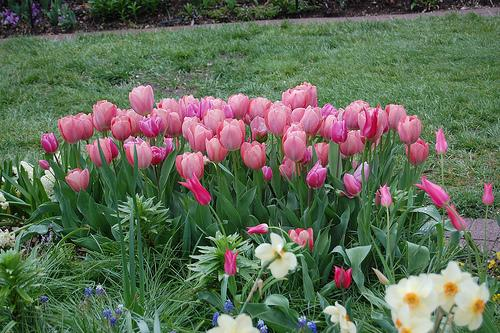tulip: (262, 99, 292, 136), (123, 136, 154, 170), (216, 119, 246, 150), (174, 150, 206, 179), (282, 126, 308, 160), (86, 137, 114, 167), (396, 113, 422, 145), (92, 99, 117, 131), (186, 121, 212, 151), (240, 142, 266, 170), (59, 114, 84, 143), (129, 85, 154, 114), (225, 92, 250, 118), (64, 167, 91, 191), (306, 160, 327, 187)
